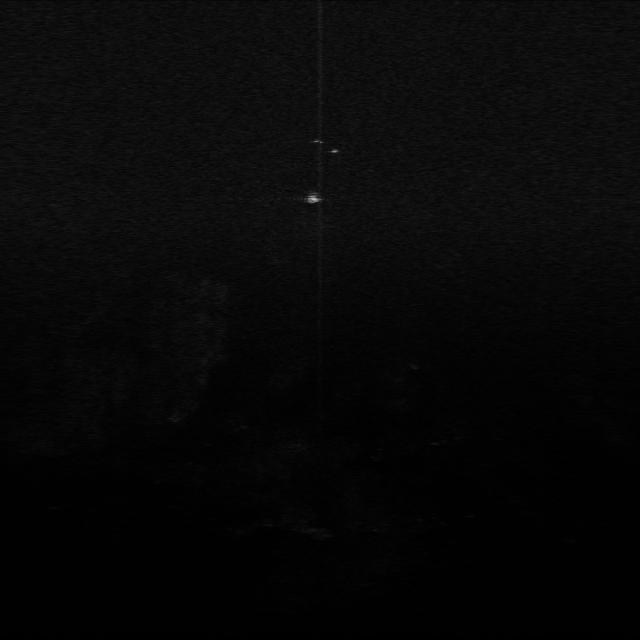rov: (301, 190, 328, 207)
